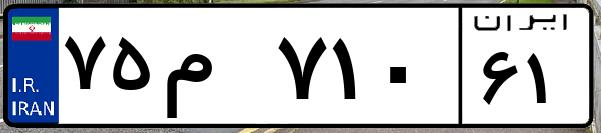0: (385, 28, 445, 110)
1: (330, 28, 385, 110), (525, 38, 570, 115)
5: (110, 28, 158, 98)
6: (475, 38, 525, 113)
7: (270, 28, 330, 110), (57, 26, 110, 100)
م: (158, 20, 270, 120)
